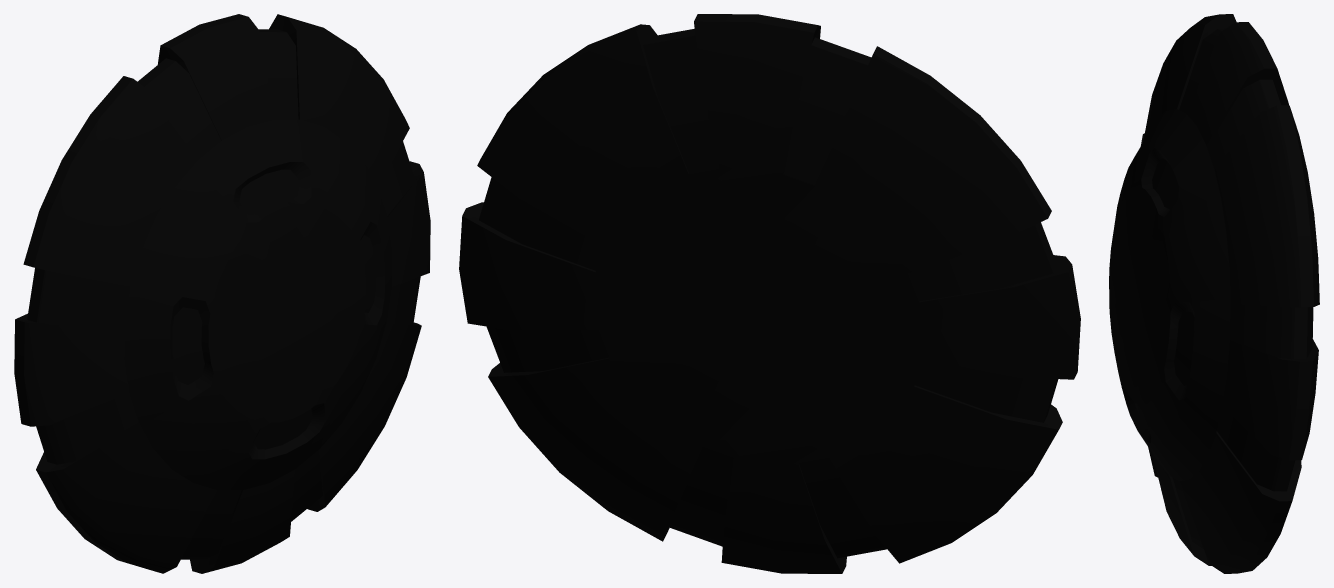
The model's file is Spaceships_1_Finished.fbx.
3 views of the same model, side by side, from view 1: azimuth 30°, elevation 25°; view 2: azimuth 150°, elevation 25°; view 3: azimuth 270°, elevation 25° (orthographic). The views are drawn at different scales.
Visible parts, largest first — view 1: node_id6, node_id4; view 2: node_id6; view 3: node_id6, node_id4.
Boxes of the visible parts, x1,y1,x2,y2 form: node_id6: [14, 14, 430, 573]; node_id4: [124, 119, 392, 490]; node_id6: [459, 14, 1080, 573]; node_id6: [1140, 14, 1319, 573]; node_id4: [1109, 109, 1230, 480].
Bounding box in the file's own units: 0.4971 × 0.5106 × 0.1926.
Materials: 2 (2 with a texture image).
